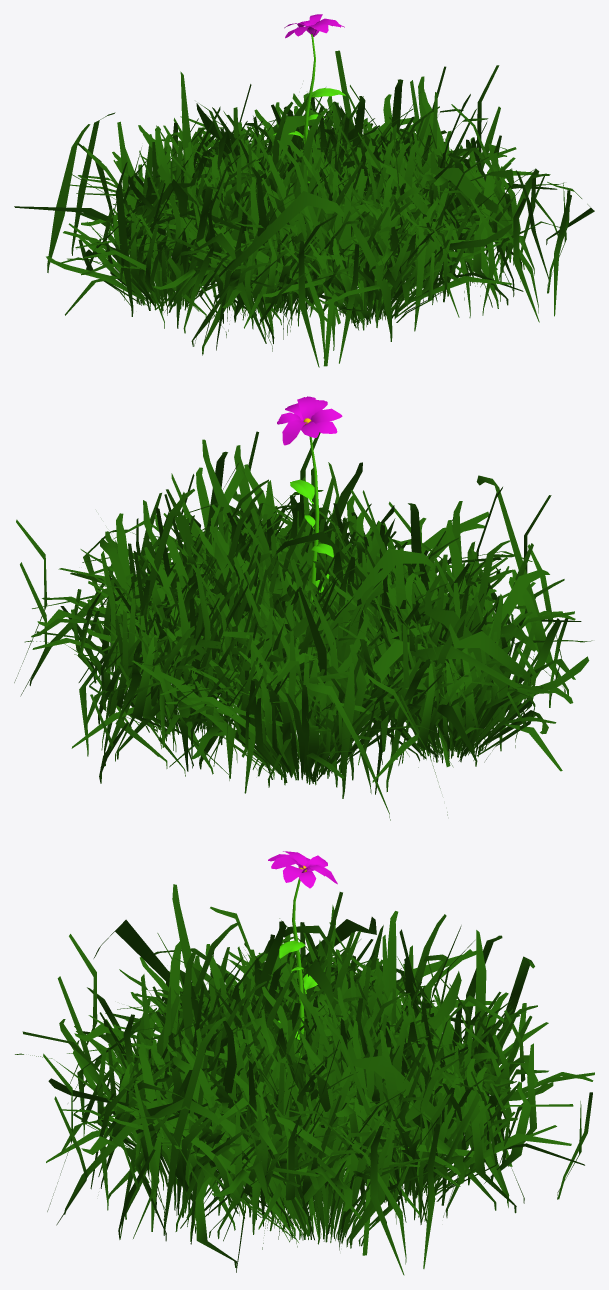
The model's file is Player2.fbx.
The picture shows the model from 3 angles, top to bottom: view 1: azimuth 30°, elevation 25°; view 2: azimuth 150°, elevation 25°; view 3: azimuth 270°, elevation 25°; orthographic projection. The views are drawn at different scales.
Parts seen in each view (by area): view 1: Player; view 2: Player; view 3: Player.
Part boxes in pixels (x1=…): Player: x1=14, y1=14, x2=594, y2=367; Player: x1=14, y1=396, x2=592, y2=820; Player: x1=15, y1=851, x2=594, y2=1275.
Bounding box in the file's own units: 171 × 91.22 × 157.
